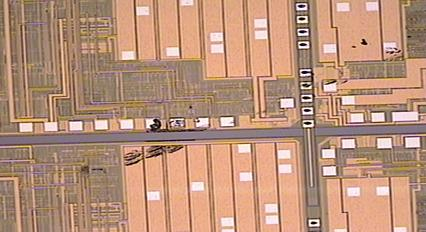SCRATCH: (79, 34, 414, 177)
